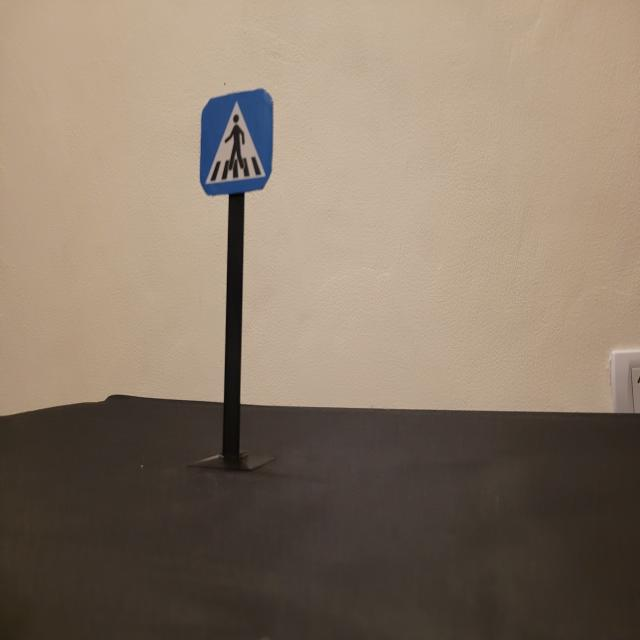crosswalk: (200, 88, 273, 198)
